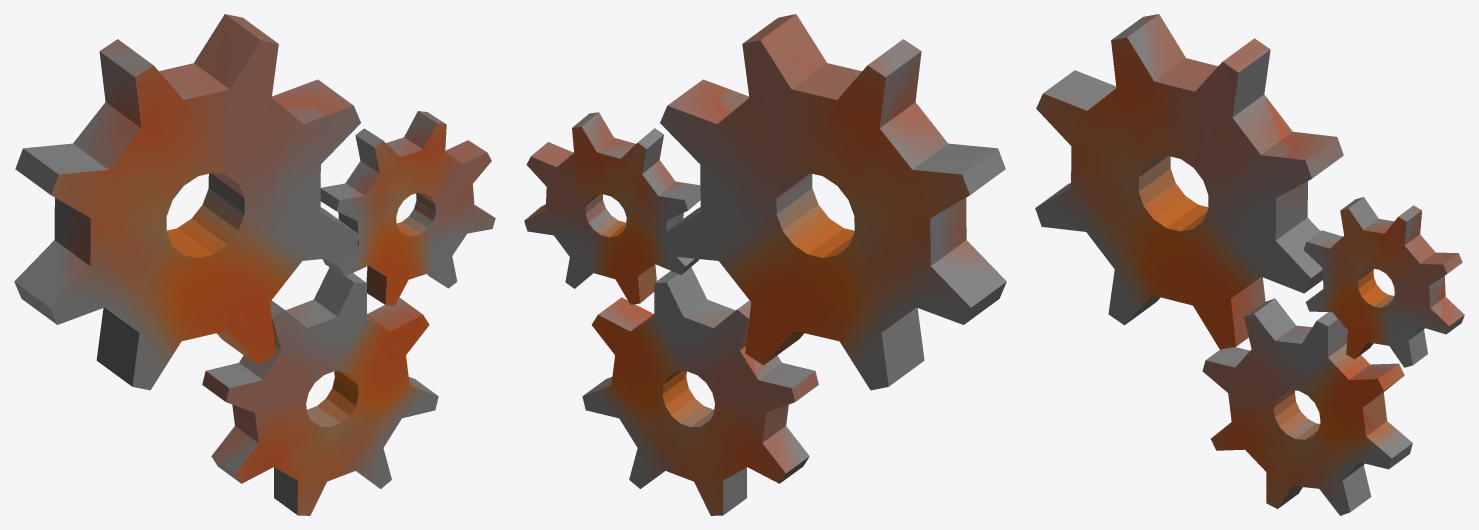
File: OfficeandEnv_Engrenagens.fbx
3 renders of one model, left to right at view 1: azimuth 30°, elevation 25°; view 2: azimuth 150°, elevation 25°; view 3: azimuth 330°, elevation 25°, orthographic. The views are drawn at different scales.
Parts seen in each view (by area): view 1: EngrenagemGrande, EngrenagemMedia, EngrenagemPequena; view 2: EngrenagemGrande, EngrenagemMedia, EngrenagemPequena; view 3: EngrenagemGrande, EngrenagemMedia, EngrenagemPequena.
Boxes of the visible parts, x1=… form: EngrenagemGrande: x1=14, y1=14, x2=360, y2=390; EngrenagemMedia: x1=202, y1=267, x2=438, y2=515; EngrenagemPequena: x1=320, y1=111, x2=495, y2=305; EngrenagemGrande: x1=660, y1=14, x2=1006, y2=390; EngrenagemMedia: x1=582, y1=267, x2=818, y2=515; EngrenagemPequena: x1=524, y1=112, x2=700, y2=304; EngrenagemGrande: x1=1035, y1=14, x2=1343, y2=349; EngrenagemMedia: x1=1202, y1=298, x2=1412, y2=515; EngrenagemPequena: x1=1303, y1=197, x2=1464, y2=367.
Size of the model in its own units: 75.37 by 78.23 by 10.28.
Materials: 1 (1 with a texture image).
